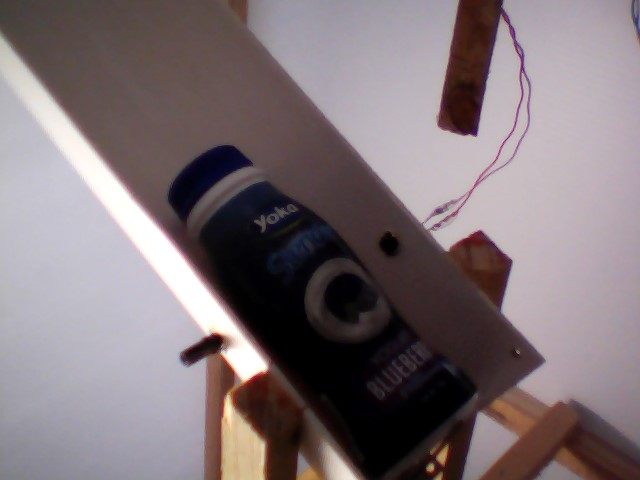plastico: (161, 141, 490, 480)
